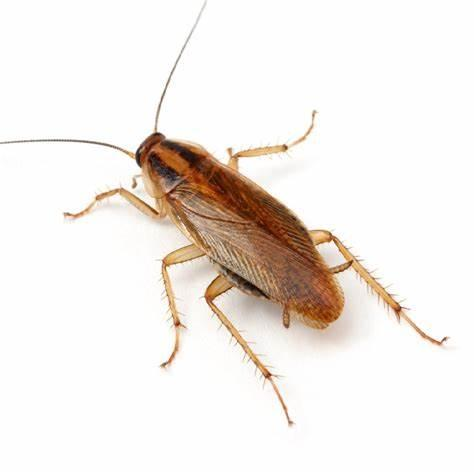cockroach: (128, 115, 360, 347)
